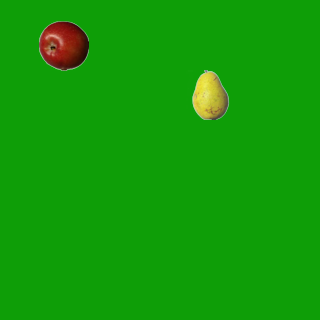Apple Braeburn: (38, 20, 88, 70)
Pear Monster: (185, 69, 235, 119)
